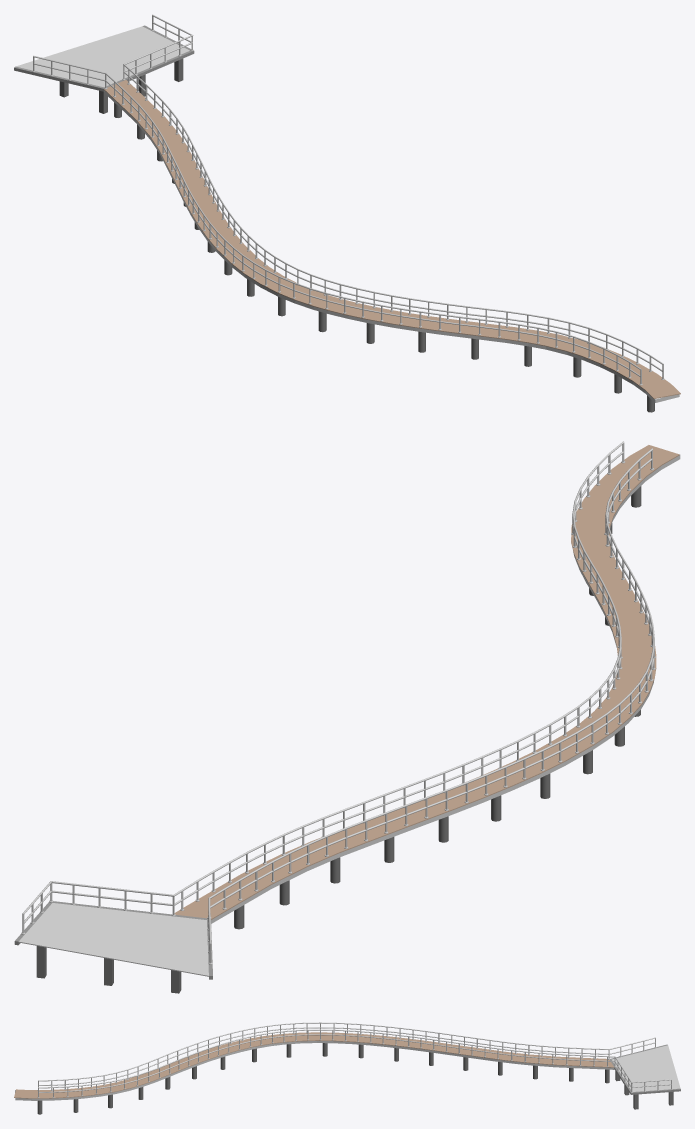
File: s型桥.fbx
3 renders of one model, top to bottom at view 1: azimuth 30°, elevation 25°; view 2: azimuth 150°, elevation 25°; view 3: azimuth 270°, elevation 25°, orthographic. The views are drawn at different scales.
Visible parts, largest first — view 1: 黑涂料; view 2: 黑涂料; view 3: 黑涂料.
Boxes of the visible parts, x1,y1,x2,y2 form: 黑涂料: [14, 14, 680, 412]; 黑涂料: [14, 441, 680, 993]; 黑涂料: [14, 1022, 680, 1114].
Bounding box in the file's own units: 14.42 × 3.02 × 61.68.
